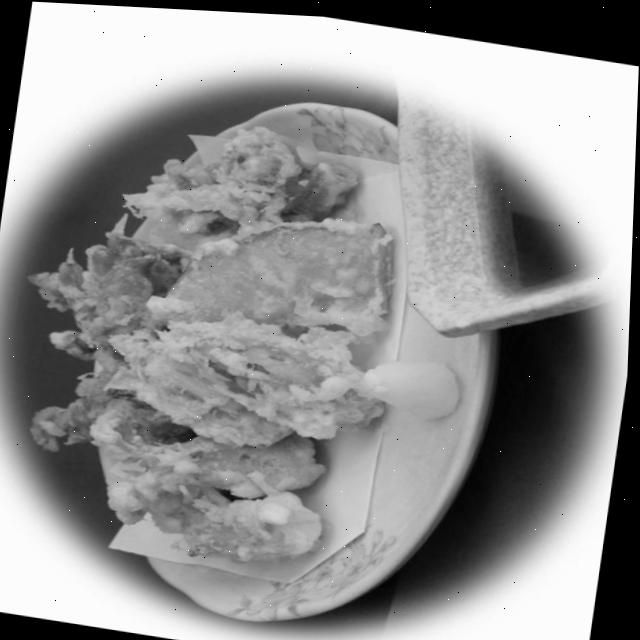蔬菜料理: (38, 103, 420, 589)
